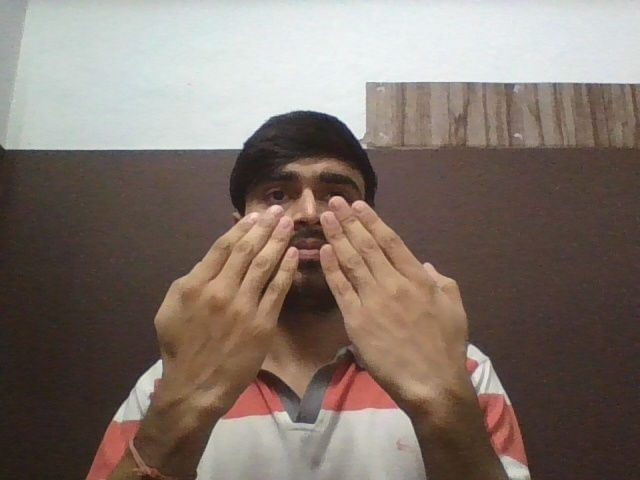Thankyou: (152, 195, 471, 404)
